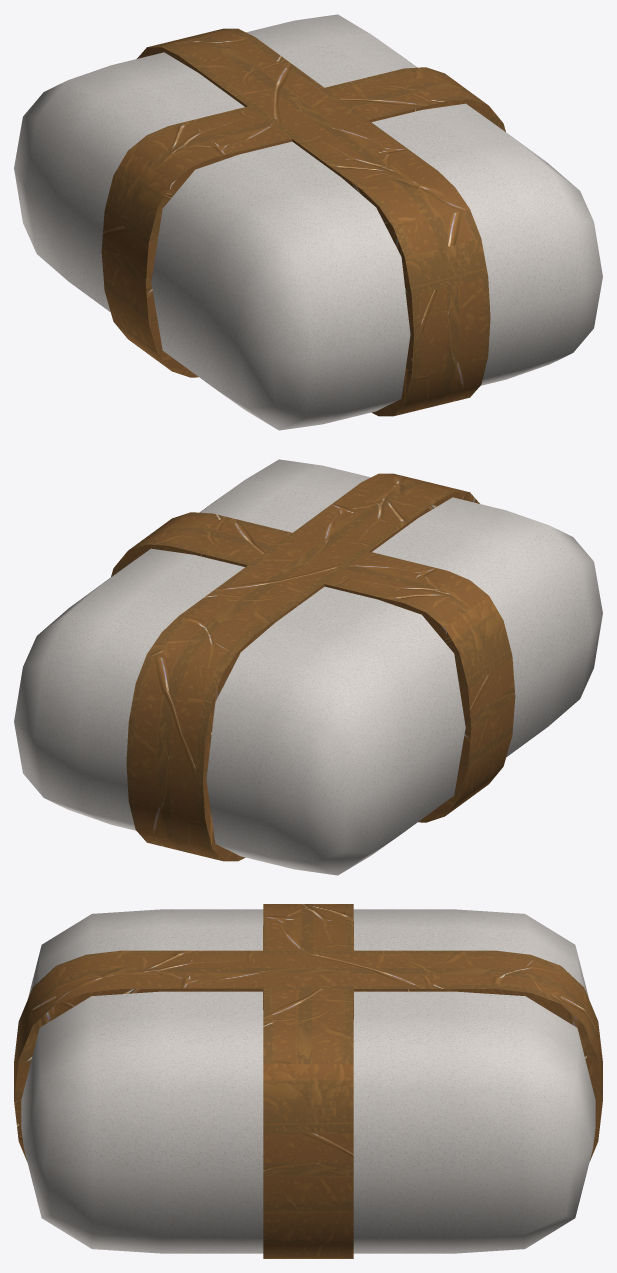
Rendered from drugs.glb.
The picture shows the model from 3 angles, top to bottom: view 1: azimuth 30°, elevation 25°; view 2: azimuth 150°, elevation 25°; view 3: azimuth 270°, elevation 25°; orthographic projection. The views are drawn at different scales.
Visible parts, largest first — view 1: Cube, Cube.002; view 2: Cube, Cube.002; view 3: Cube, Cube.002.
Part boxes in pixels (x1,y1,x2,y2): Cube: (14,14,602,430); Cube.002: (101,28,505,416); Cube: (14,459,602,875); Cube.002: (111,473,515,861); Cube: (21,909,595,1253); Cube.002: (14,904,602,1258).
Size of the model in its own units: 0.8926 by 0.5049 by 1.2.
Materials: 1 (1 with a texture image).
